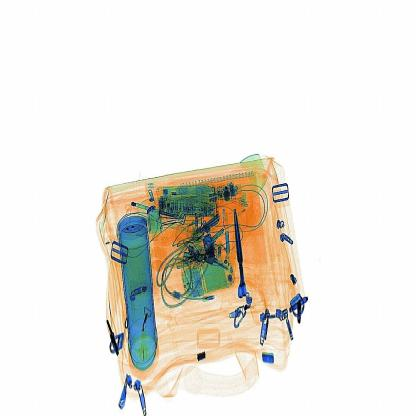gun: (211, 198, 261, 306)
